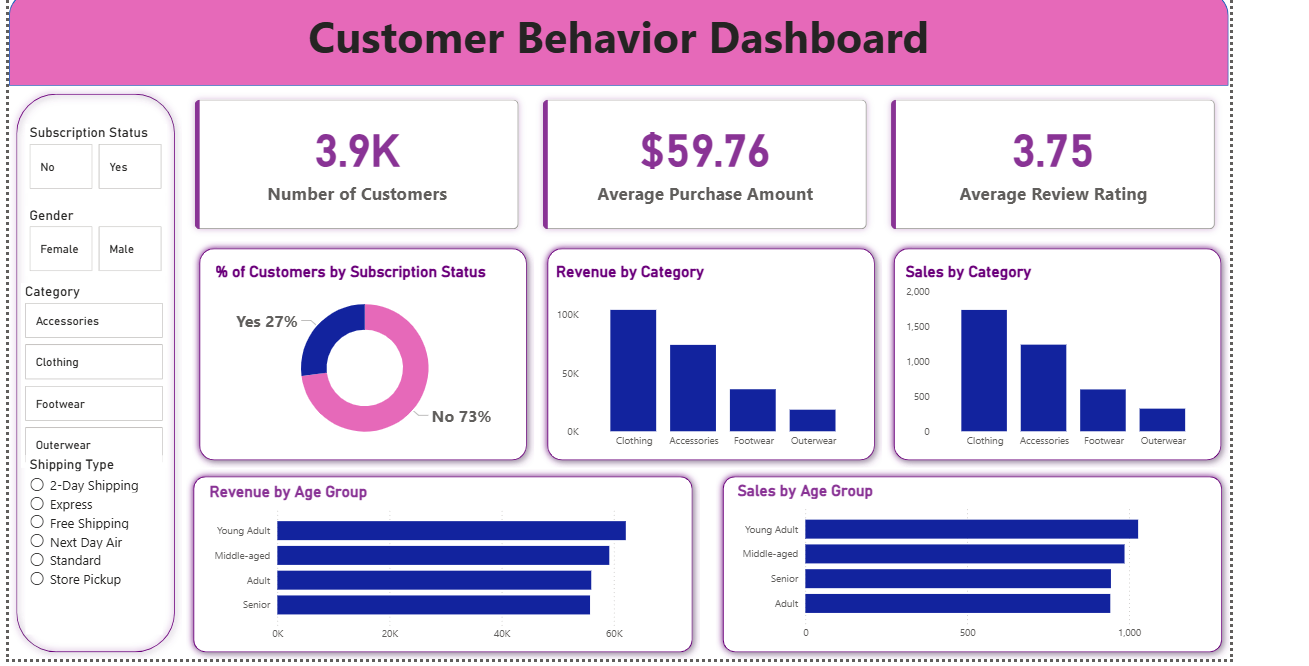

The dashboard page shown, as its layout file describes it:
{"tool":"powerbi","page":{"name":"Page 1","canvas":[1500,820],"ordinal":0},"visuals":[{"type":"cardVisual","fields":{"Data":["public customer.Number of Customers","public customer.Average Purchase Amount","public customer.Average Review Rating"]},"box":[212.9,115.3,1286.5,191.6],"z":2000},{"type":"shape","box":[218.3,585.6,631.7,234.2],"z":2500,"group":"g1"},{"type":"shape","box":[0,0,1499.4,115.3],"z":3000},{"type":"textbox","box":[0,12.4,1499.4,102.9],"z":4000},{"type":"shape","box":[225.4,307,420.5,278.6],"z":5000},{"type":"donutChart","title":"% of Customers by Subscription Status","fields":{"Category":["public customer.subscription_status"],"Y":["CountNonNull(public customer.customer_id)"]},"box":[248.4,331.8,376.2,237.8],"z":6000},{"type":"shape","box":[1078.9,307,420.5,278.6],"z":7000},{"type":"shape","box":[652.1,307,420.5,278.6],"z":8000},{"type":"clusteredColumnChart","title":"Revenue by Category","fields":{"Y":["Sum(public customer.purchase_amount)"],"Category":["public customer.category"]},"box":[667.2,331.8,385.1,237.8],"z":9000},{"type":"clusteredColumnChart","title":"Sales by Category","fields":{"Y":["CountNonNull(public customer.customer_id)"],"Category":["public customer.category"]},"box":[1096.6,331.8,385.1,237.8],"z":10000},{"type":"shape","box":[0,115.3,212.9,704.5],"z":11000},{"type":"advancedSlicerVisual","fields":{"Values":["public customer.subscription_status"]},"box":[19.5,161.5,173.9,85.2],"z":12000},{"type":"advancedSlicerVisual","fields":{"Values":["public customer.gender"]},"box":[19.5,264.4,173.9,85.2],"z":13000},{"type":"advancedSlicerVisual","fields":{"Values":["public customer.category"]},"box":[14.5,358.1,179,227.4],"z":14000},{"type":"listSlicer","fields":{"Values":["public customer.shipping_type"]},"box":[19.5,569.6,168.6,220],"z":15000},{"type":"shape","box":[867.7,585.6,631.7,234.2],"z":16000},{"type":"clusteredBarChart","title":"Sales by Age Group","fields":{"Y":["CountNonNull(public customer.customer_id)"],"Category":["public customer.age_group"]},"box":[890.8,601.5,585.6,204.1],"z":17000},{"type":"clusteredBarChart","title":"Revenue by Age Group","fields":{"Y":["Sum(public customer.purchase_amount)"],"Category":["public customer.age_group"]},"box":[241.4,601.6,585.6,204.1],"z":17500,"group":"g1"},{"type":"group","id":"g1","title":"Group 1","box":[218.3,585.6,631.7,234.2],"z":17501}]}

Visuals, with their boxes on the page's 1500x820 design canvas (x1, y1, x2, y2). These are canvas units, not pixel positions in the 1309x666 screenshot, which may show the page scaled, cropped or inside an application window:
cardVisual - public customer.Number of Customers x public customer.Average Purchase Amount: (213, 115, 1499, 307)
shape: (218, 586, 850, 820)
shape: (0, 0, 1499, 115)
textbox: (0, 12, 1499, 115)
shape: (225, 307, 646, 586)
"% of Customers by Subscription Status" donutChart: (248, 332, 625, 570)
shape: (1079, 307, 1499, 586)
shape: (652, 307, 1073, 586)
"Revenue by Category" clusteredColumnChart: (667, 332, 1052, 570)
"Sales by Category" clusteredColumnChart: (1097, 332, 1482, 570)
shape: (0, 115, 213, 820)
advancedSlicerVisual - public customer.subscription_status: (20, 162, 193, 247)
advancedSlicerVisual - public customer.gender: (20, 264, 193, 350)
advancedSlicerVisual - public customer.category: (14, 358, 194, 586)
listSlicer - public customer.shipping_type: (20, 570, 188, 790)
shape: (868, 586, 1499, 820)
"Sales by Age Group" clusteredBarChart: (891, 602, 1476, 806)
"Revenue by Age Group" clusteredBarChart: (241, 602, 827, 806)
"Group 1" group: (218, 586, 850, 820)
